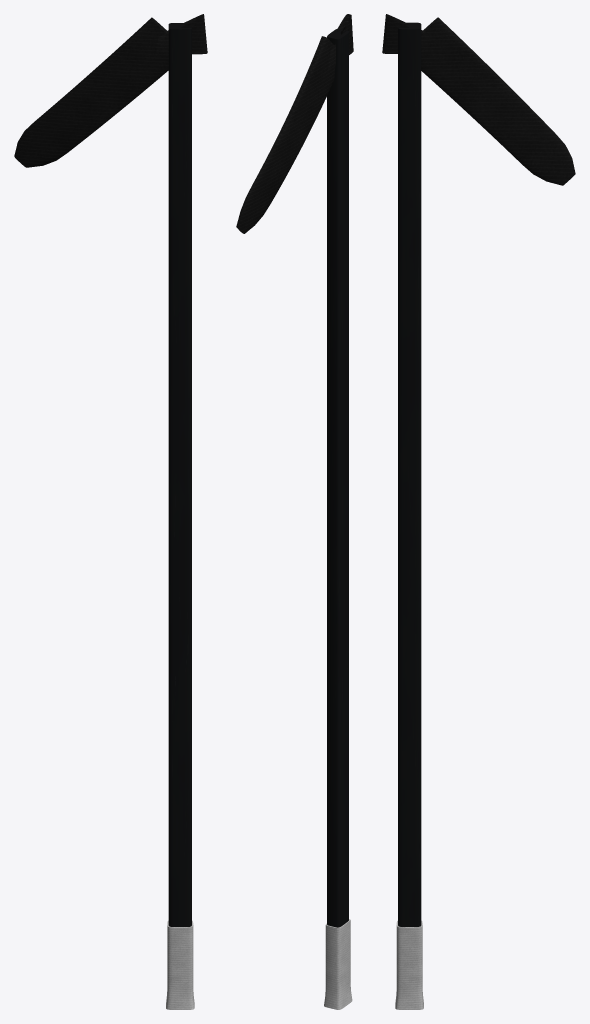
Rendered from hockey_stick.glb.
The picture shows the model from 3 angles, left to right: view 1: azimuth 90°, elevation 25°; view 2: azimuth 150°, elevation 25°; view 3: azimuth 270°, elevation 25°; orthographic projection.
Visible parts, largest first — view 1: HockeyStick_Clean_shaft, HockeyStick_Clean_blade, HockeyStick_Clean_knob; view 2: HockeyStick_Clean_shaft, HockeyStick_Clean_blade, HockeyStick_Clean_knob; view 3: HockeyStick_Clean_shaft, HockeyStick_Clean_blade, HockeyStick_Clean_knob.
Boxes of the visible parts, left/top/right/bottom form: HockeyStick_Clean_shaft: left=168, top=23, right=191, bottom=926; HockeyStick_Clean_blade: left=14, top=14, right=207, bottom=167; HockeyStick_Clean_knob: left=166, top=920, right=194, bottom=1009; HockeyStick_Clean_shaft: left=327, top=29, right=348, bottom=927; HockeyStick_Clean_blade: left=236, top=14, right=353, bottom=233; HockeyStick_Clean_knob: left=324, top=919, right=352, bottom=1009; HockeyStick_Clean_shaft: left=398, top=22, right=421, bottom=926; HockeyStick_Clean_blade: left=382, top=14, right=575, bottom=185; HockeyStick_Clean_knob: left=395, top=920, right=423, bottom=1009.
Bounding box in the file's own units: 0.0477 × 1.5 × 0.2654.
3 materials, 3 textured.
